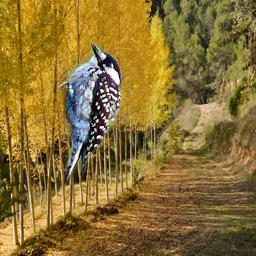Woodpecker: (41, 36, 132, 194)
